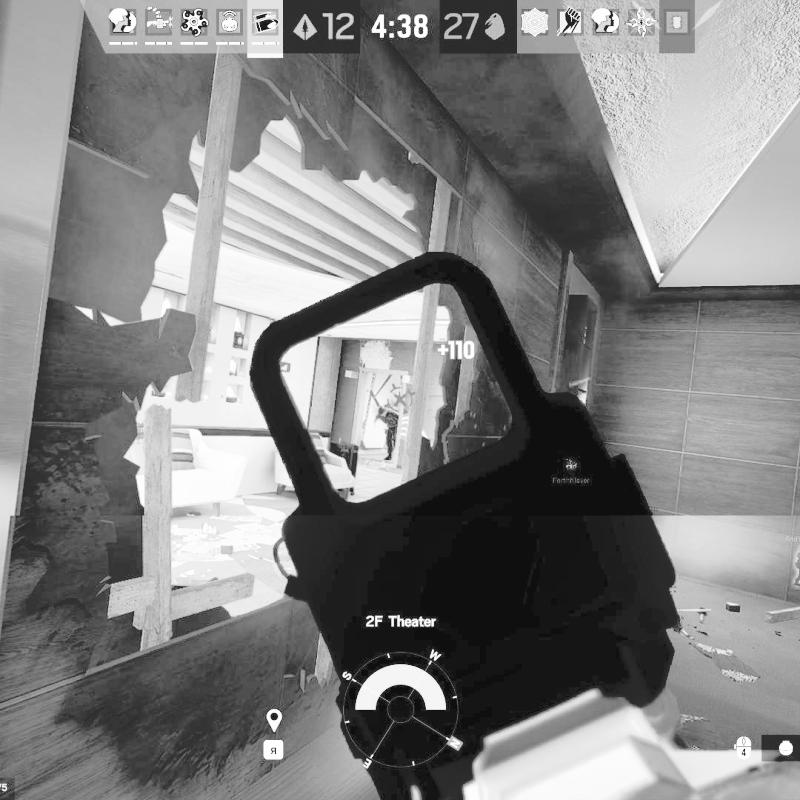Character: (374, 398, 399, 465)
Friend_label: (551, 457, 591, 485)
Head: (378, 407, 388, 418)
